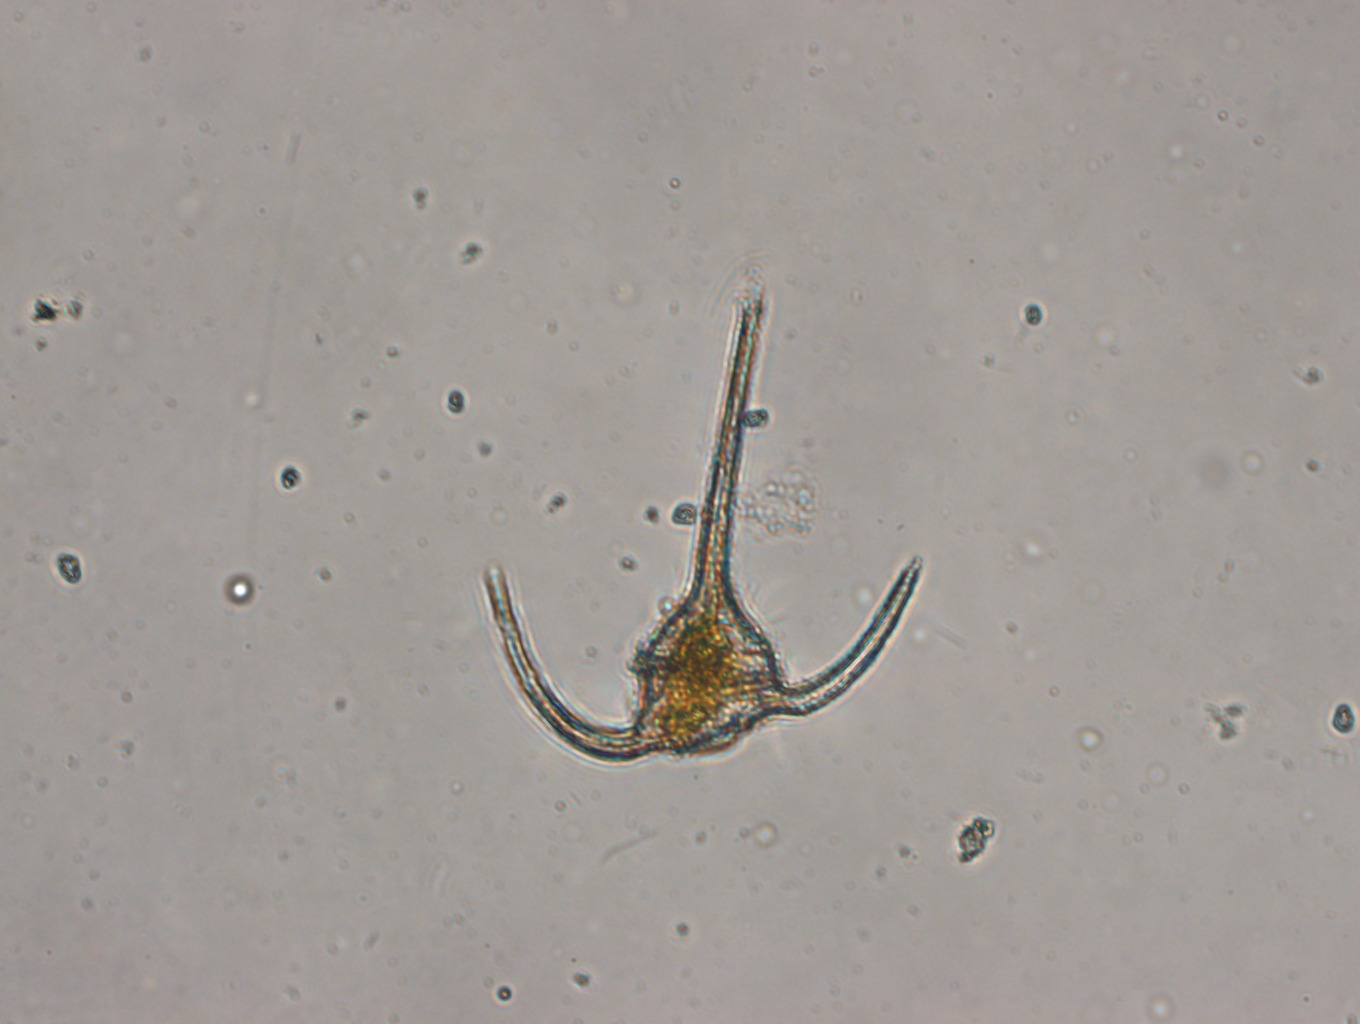ceratium trichoceros: (474, 269, 931, 774)
